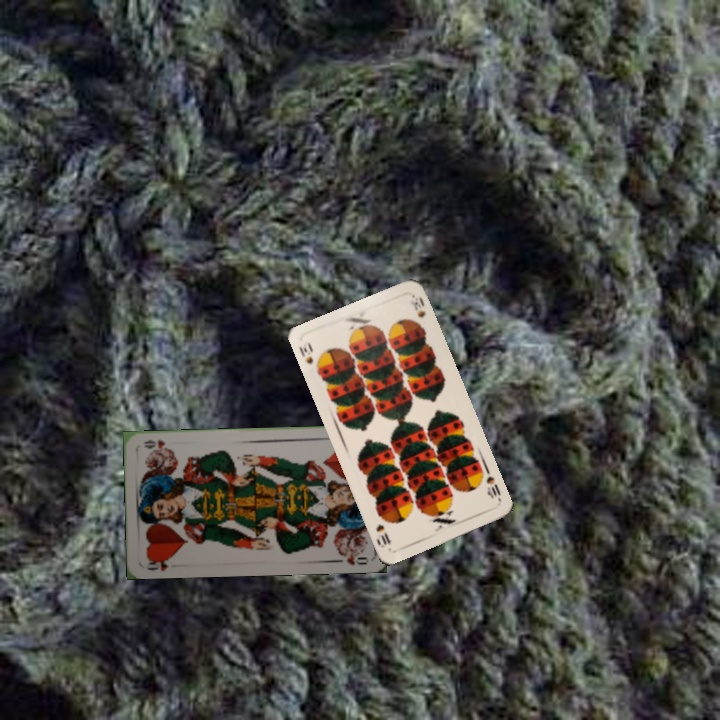HO: (143, 554, 173, 573)
S10: (294, 337, 323, 375), (482, 472, 504, 504)
